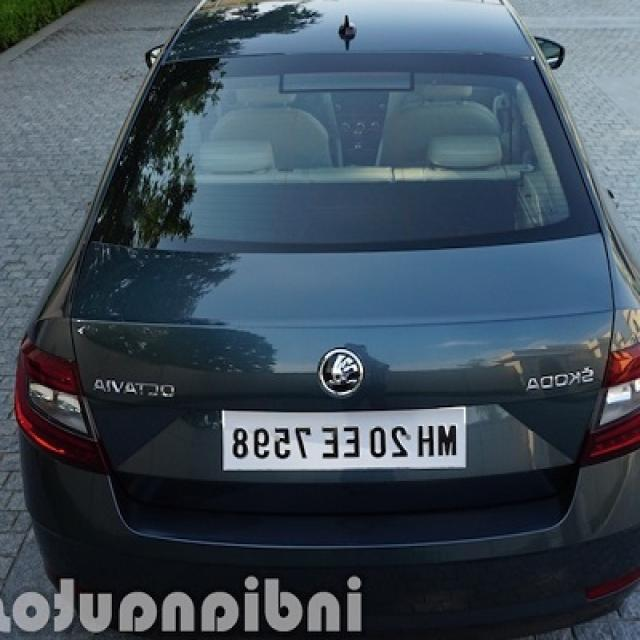number-plate: (202, 385, 472, 501)
